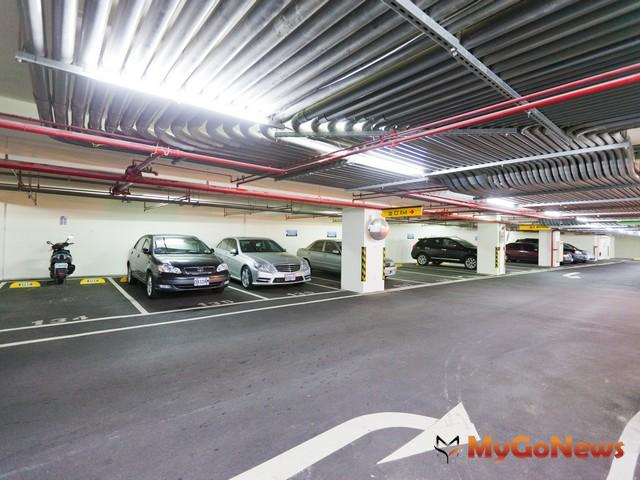car: (125, 229, 231, 301), (228, 227, 314, 288), (409, 232, 477, 270), (298, 231, 341, 276), (383, 249, 398, 284)
